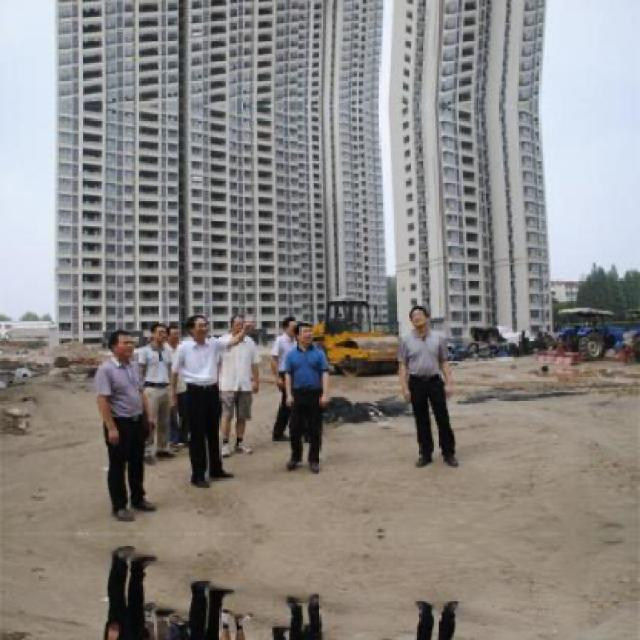sin casco: (180, 311, 234, 348), (108, 320, 151, 364), (292, 305, 326, 347), (407, 297, 439, 341)
